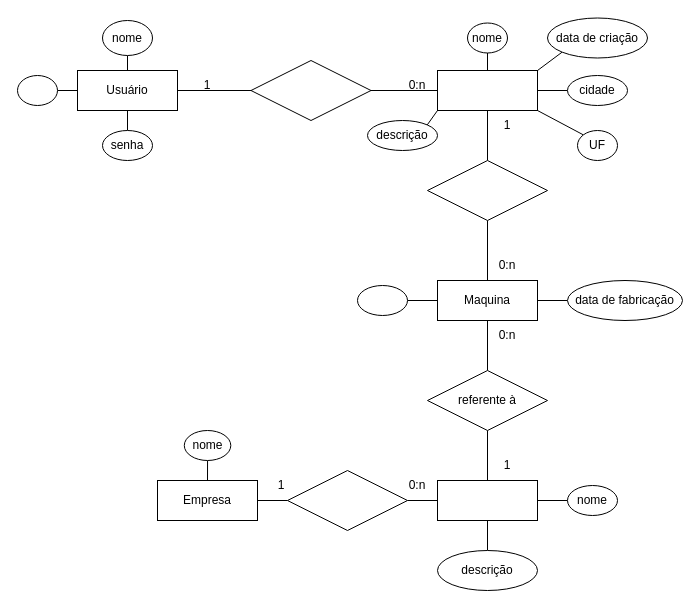
Image size: 700x608. Some labels were removed from this diagram. Here are the shapes that lost their labels. From the top down, the centre of each, then its label:
At pixel 37 90: "id".
At pixel 310 90: "é dono de".
At pixel 487 90: "Loja".
At pixel 487 190: "tem".
At pixel 382 300: "preço".
At pixel 347 500: "fabrica".
At pixel 487 500: "Modelo".
